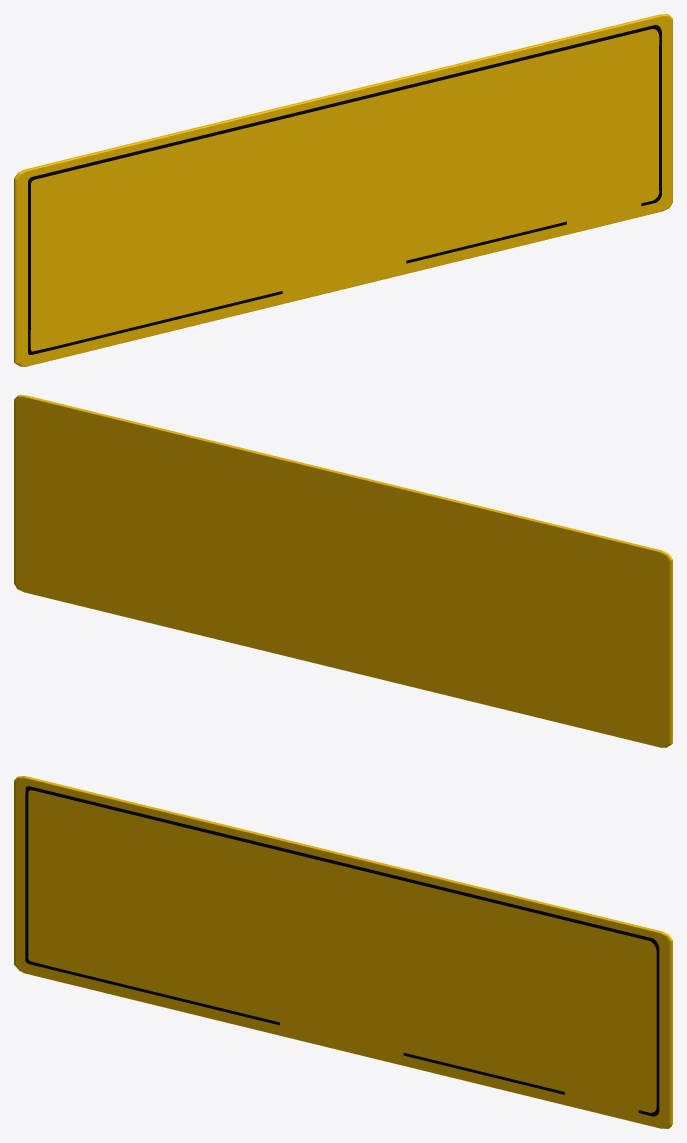
The model's file is oversized_bordered_plate.gltf.
The picture shows the model from 3 angles, top to bottom: view 1: azimuth 30°, elevation 25°; view 2: azimuth 150°, elevation 25°; view 3: azimuth 330°, elevation 25°; orthographic projection.
Visible parts, largest first — view 1: Plane, Circle.001; view 2: Plane; view 3: Plane, Circle.001.
Part boxes in pixels (x1=…): Plane: x1=14, y1=14, x2=672, y2=366; Circle.001: x1=28, y1=25, x2=661, y2=354; Plane: x1=14, y1=395, x2=672, y2=747; Plane: x1=14, y1=776, x2=672, y2=1128; Circle.001: x1=25, y1=786, x2=659, y2=1116.
Bounding box in the file's own units: 10.66 × 3.04 × 0.0661.
